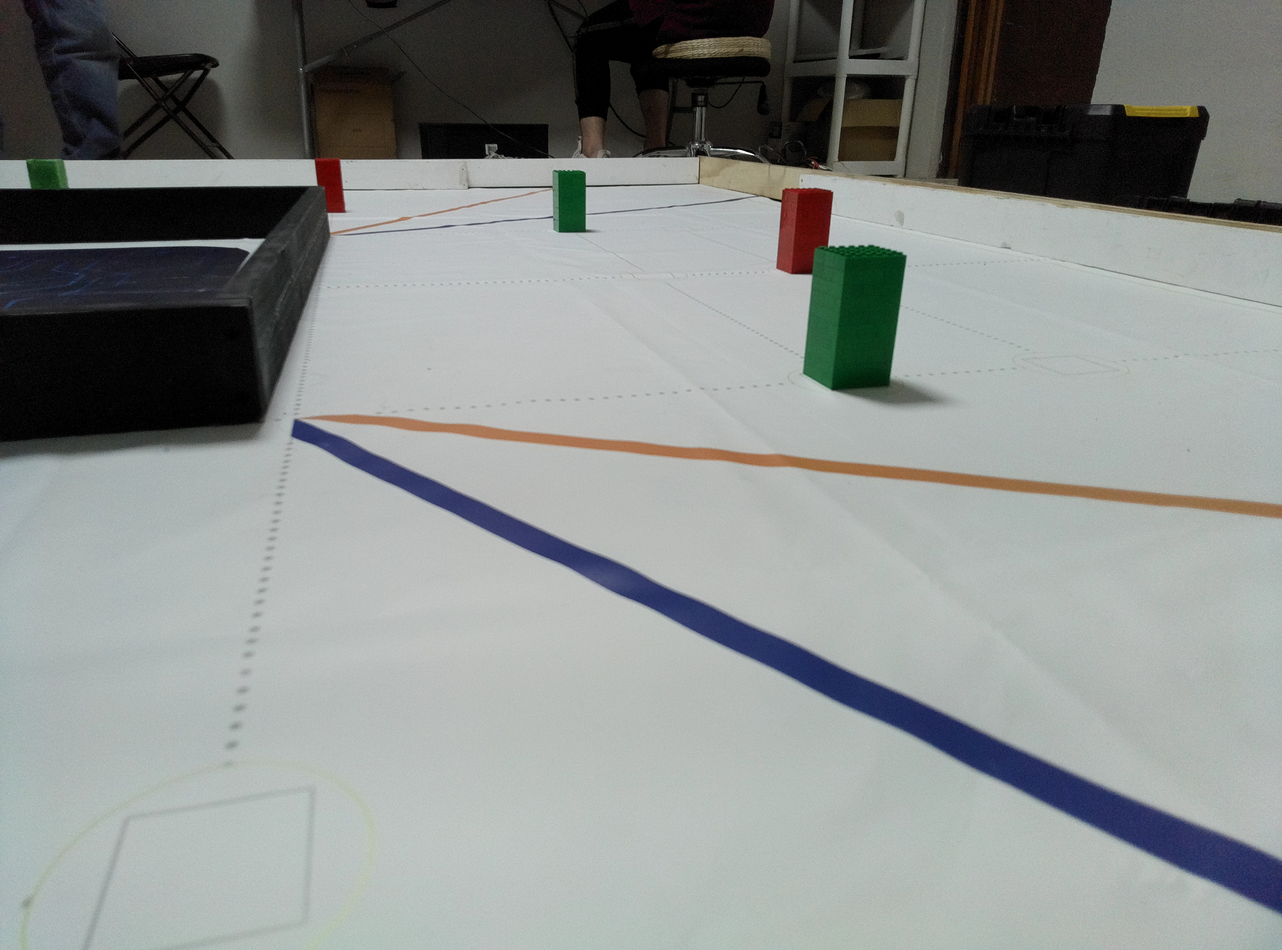greenbox: (802, 248, 908, 390), (552, 165, 591, 236), (27, 158, 71, 190)
redbox: (779, 186, 830, 275), (314, 158, 346, 211)
